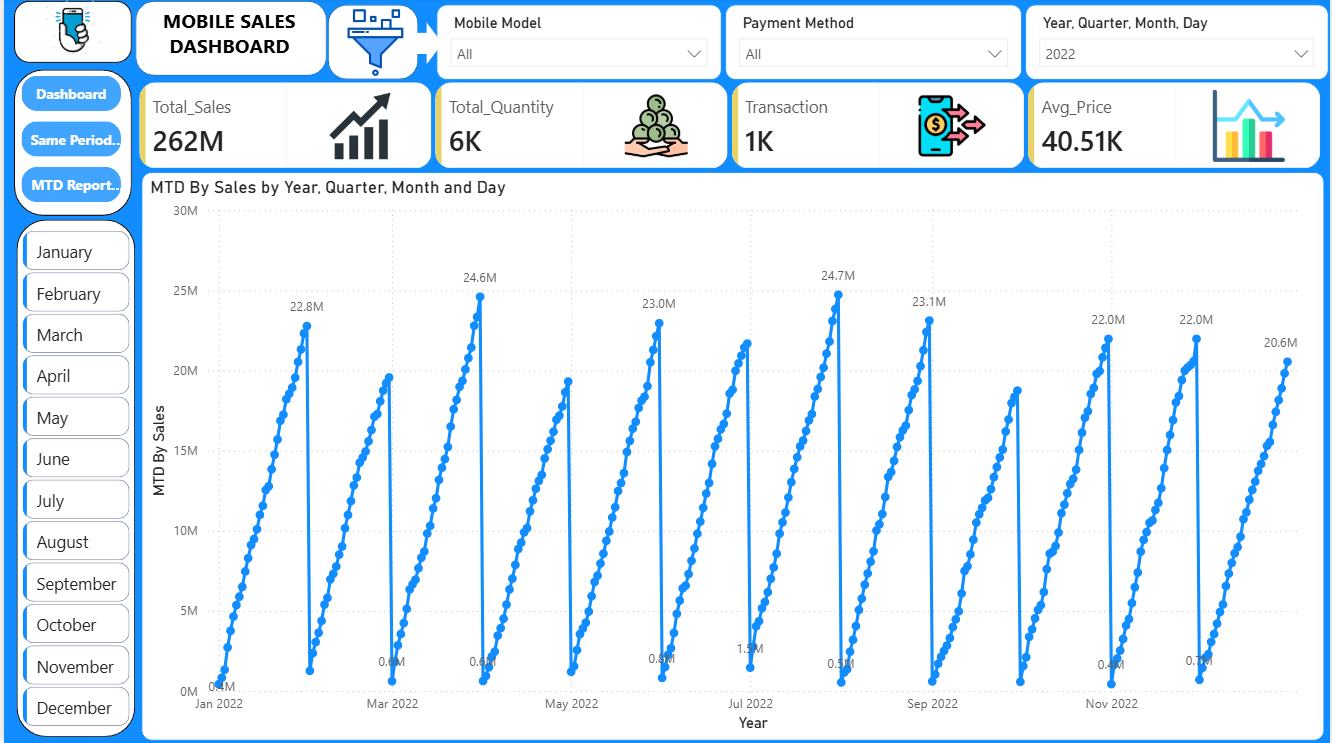

The dashboard page shown, as its layout file describes it:
{"tool":"powerbi","page":{"name":"MTD Report By Sales","canvas":[1280,720],"ordinal":1},"visuals":[{"type":"shape","box":[10,3.8,113.8,60],"z":0},{"type":"image","box":[10,3.8,113.8,60],"z":1000},{"type":"shape","box":[10,70,113.8,141.2],"z":2000},{"type":"shape","box":[12.1,214.7,114.6,499.5],"z":3000},{"type":"advancedSlicerVisual","fields":{"Values":["Custom_calender.Date.Variation.Date Hierarchy.Month"]},"box":[13.3,220.8,113.4,493.4],"z":4000},{"type":"cardVisual","fields":{"Data":["Sales_Data.Total_Sales","Sales_Data.Total_Quantity","Sales_Data.Transaction","Sales_Data.Avg_Price"]},"box":[123.8,76.2,1155,95],"z":5000},{"type":"slicer","fields":{"Values":["Sales_Data.Mobile Model"]},"box":[417.5,7.5,275,72.5],"z":6000},{"type":"slicer","fields":{"Values":["Sales_Data.Payment Method"]},"box":[696.2,7.5,286.2,72.5],"z":7000},{"type":"slicer","fields":{"Values":["Custom_calender.Date.Variation.Date Hierarchy.Year","Custom_calender.Date.Variation.Date Hierarchy.Quarter","Custom_calender.Date.Variation.Date Hierarchy.Month","Custom_calender.Date.Variation.Date Hierarchy.Day"]},"box":[986.2,7.5,292.5,72.5],"z":8000},{"type":"shape","box":[312.5,7.5,87.5,72.5],"z":9000},{"type":"image","box":[317.5,11.2,82.5,66.2],"z":10000},{"type":"shape","box":[392.5,23.8,31.2,41.2],"z":11000},{"type":"shape","box":[126.2,3.8,185,72.5],"z":12000},{"type":"textbox","box":[148.8,5,138.8,80],"z":13000},{"type":"lineChart","fields":{"Category":["Custom_calender.Date.Variation.Date Hierarchy.Year","Custom_calender.Date.Variation.Date Hierarchy.Quarter","Custom_calender.Date.Variation.Date Hierarchy.Month","Custom_calender.Date.Variation.Date Hierarchy.Day"],"Y":["Sales_Data.MTD"]},"box":[132.7,168.9,1141.3,548.9],"z":14000},{"type":"pageNavigator","box":[17.3,76.5,96.3,123.5],"z":15000}]}

Visuals, with their boxes in screenshot pixels (x1, y1, x2, y2), scaled from the page's 1280x720 canvas onto the 1332x743 screenshot:
shape: [x1=10, y1=4, x2=129, y2=66]
image: [x1=10, y1=4, x2=129, y2=66]
shape: [x1=10, y1=72, x2=129, y2=218]
shape: [x1=13, y1=222, x2=132, y2=737]
advancedSlicerVisual - Custom_calender.Date.Variation.Date Hierarchy.Month: [x1=14, y1=228, x2=132, y2=737]
cardVisual - Sales_Data.Total_Sales x Sales_Data.Total_Quantity: [x1=129, y1=79, x2=1331, y2=177]
slicer - Sales_Data.Mobile Model: [x1=434, y1=8, x2=721, y2=83]
slicer - Sales_Data.Payment Method: [x1=724, y1=8, x2=1022, y2=83]
slicer - Custom_calender.Date.Variation.Date Hierarchy.Year x Custom_calender.Date.Variation.Date Hierarchy.Quarter: [x1=1026, y1=8, x2=1331, y2=83]
shape: [x1=325, y1=8, x2=416, y2=83]
image: [x1=330, y1=12, x2=416, y2=80]
shape: [x1=408, y1=25, x2=441, y2=67]
shape: [x1=131, y1=4, x2=324, y2=79]
textbox: [x1=155, y1=5, x2=299, y2=88]
lineChart - Custom_calender.Date.Variation.Date Hierarchy.Year x Custom_calender.Date.Variation.Date Hierarchy.Quarter: [x1=138, y1=174, x2=1326, y2=741]
pageNavigator: [x1=18, y1=79, x2=118, y2=206]
